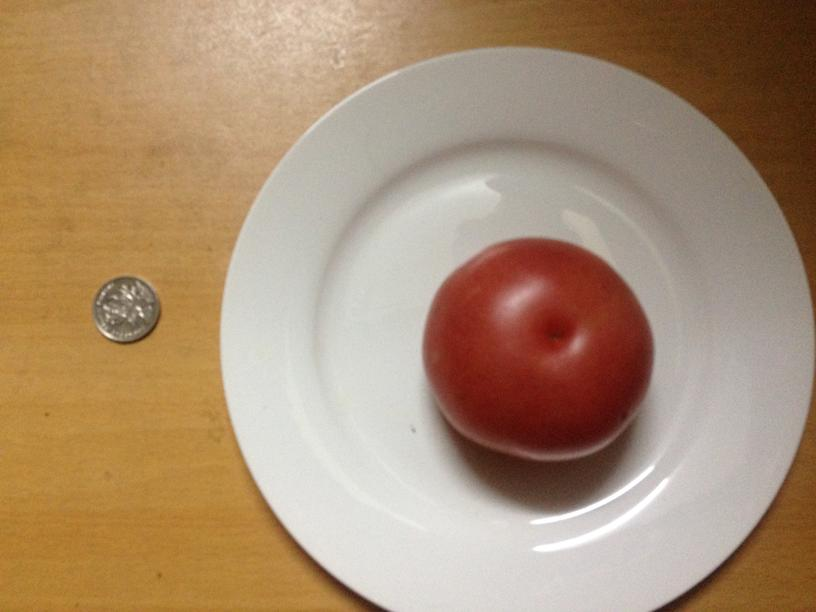coin: (90, 273, 161, 343)
tomato: (415, 237, 657, 465)
